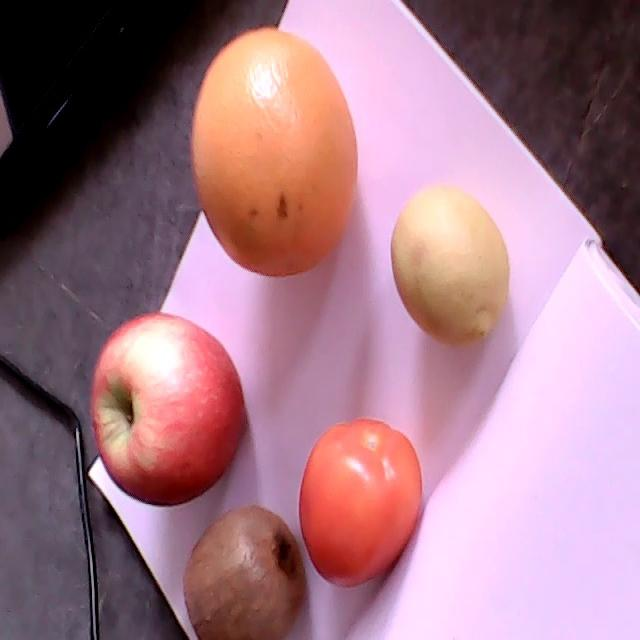apple: (92, 312, 247, 506)
kiwi: (182, 506, 307, 639)
lemon: (391, 185, 509, 343)
orange: (190, 27, 357, 279)
tomato: (299, 417, 421, 588)
